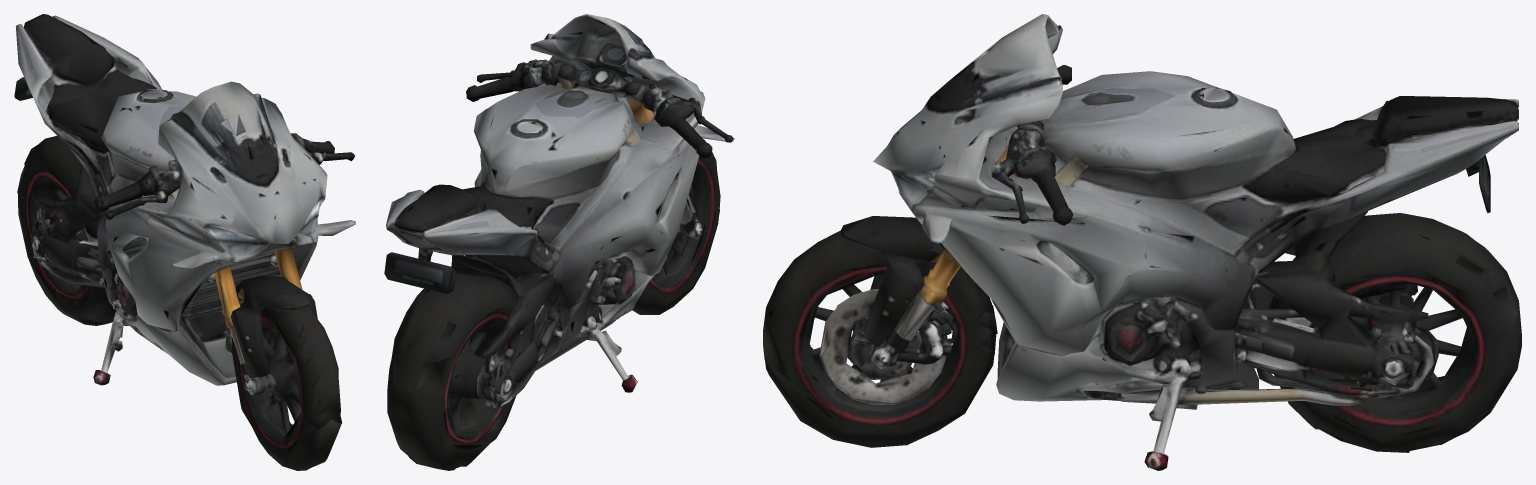
The model's file is sport-bike.glb.
3 renders of one model, left to right at view 1: azimuth 30°, elevation 25°; view 2: azimuth 150°, elevation 25°; view 3: azimuth 270°, elevation 25°, orthographic. The views are drawn at different scales.
Visible parts, largest first — view 1: tripo_node_121f7503-a9ca-4a34-bc7d-70c9a7e4b4af; view 2: tripo_node_121f7503-a9ca-4a34-bc7d-70c9a7e4b4af; view 3: tripo_node_121f7503-a9ca-4a34-bc7d-70c9a7e4b4af.
Boxes of the visible parts, x1,y1,x2,y2 form: tripo_node_121f7503-a9ca-4a34-bc7d-70c9a7e4b4af: (14,14,355,470); tripo_node_121f7503-a9ca-4a34-bc7d-70c9a7e4b4af: (384,14,734,470); tripo_node_121f7503-a9ca-4a34-bc7d-70c9a7e4b4af: (763,14,1521,470).
Size of the model in its own units: 0.4729 by 0.607 by 0.9785.
Materials: 1 (1 with a texture image).
